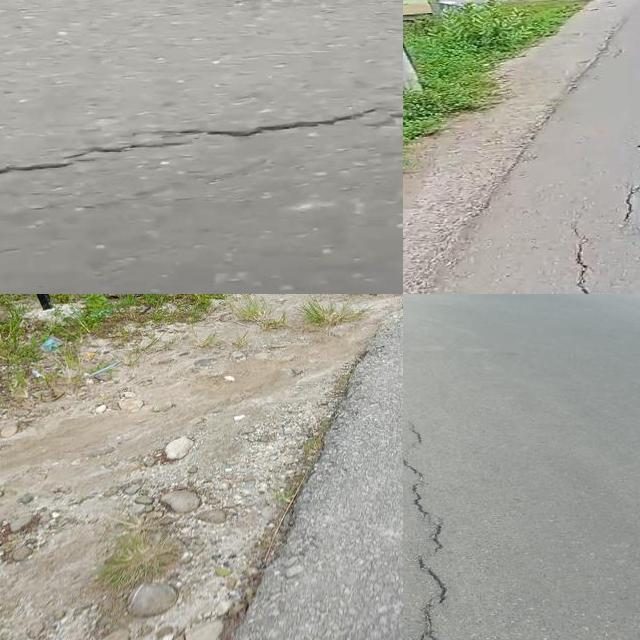Melintang: (0, 91, 403, 191)
Memanjang: (403, 414, 459, 640), (609, 102, 640, 239), (564, 224, 606, 294)
Pinggir: (211, 294, 403, 640)
